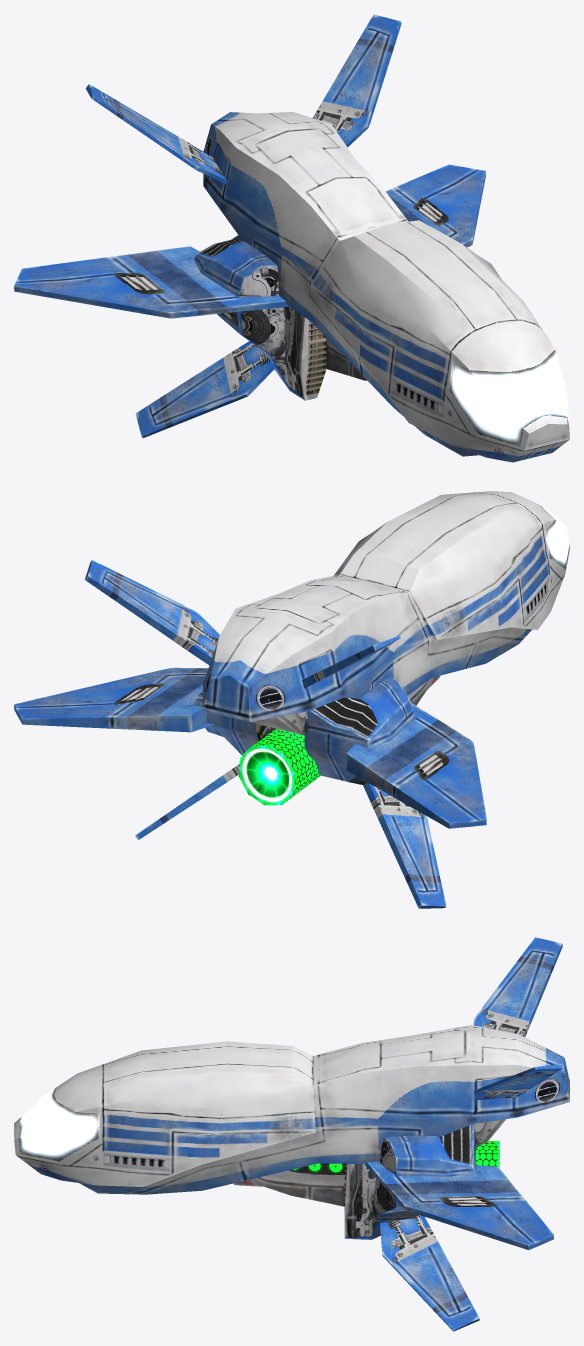
3 views of the same model, one above another, from view 1: azimuth 30°, elevation 25°; view 2: azimuth 150°, elevation 25°; view 3: azimuth 270°, elevation 25° (orthographic). The views are drawn at different scales.
Visible parts, largest first — view 1: Spaceship1; view 2: Spaceship1; view 3: Spaceship1.
Boxes of the visible parts, left/top/right/bottom form: Spaceship1: left=14, top=14, right=569, bottom=462; Spaceship1: left=14, top=491, right=569, bottom=908; Spaceship1: left=14, top=937, right=569, bottom=1331.
Size of the model in its own units: 21.78 by 13.57 by 25.7.
1 material, 1 textured.
